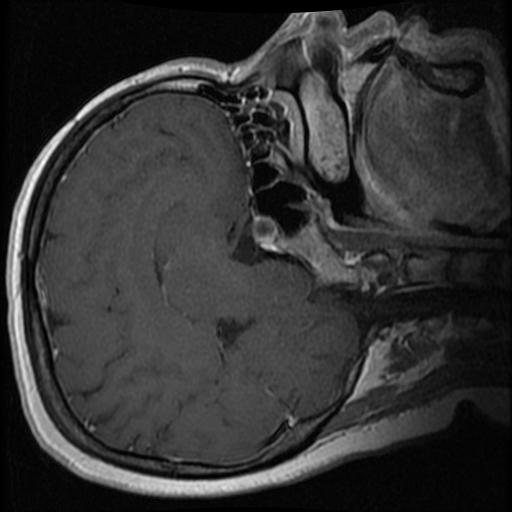pituitary tumour: (251, 213, 280, 252)
